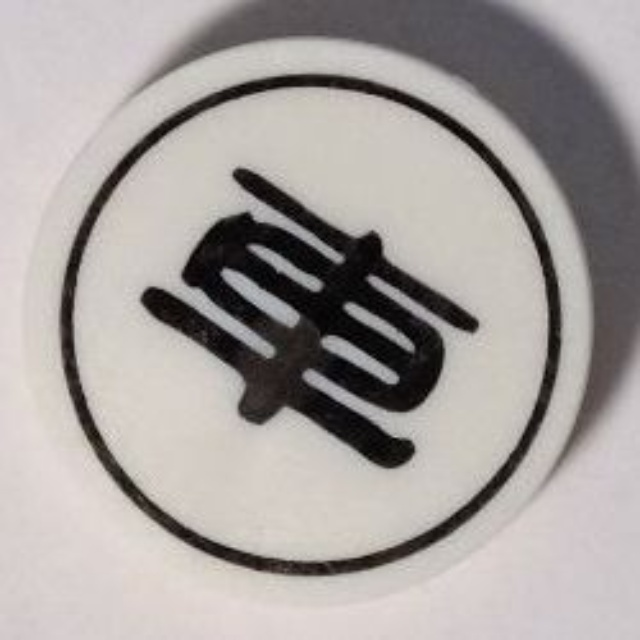black_xe: (20, 33, 597, 586)
